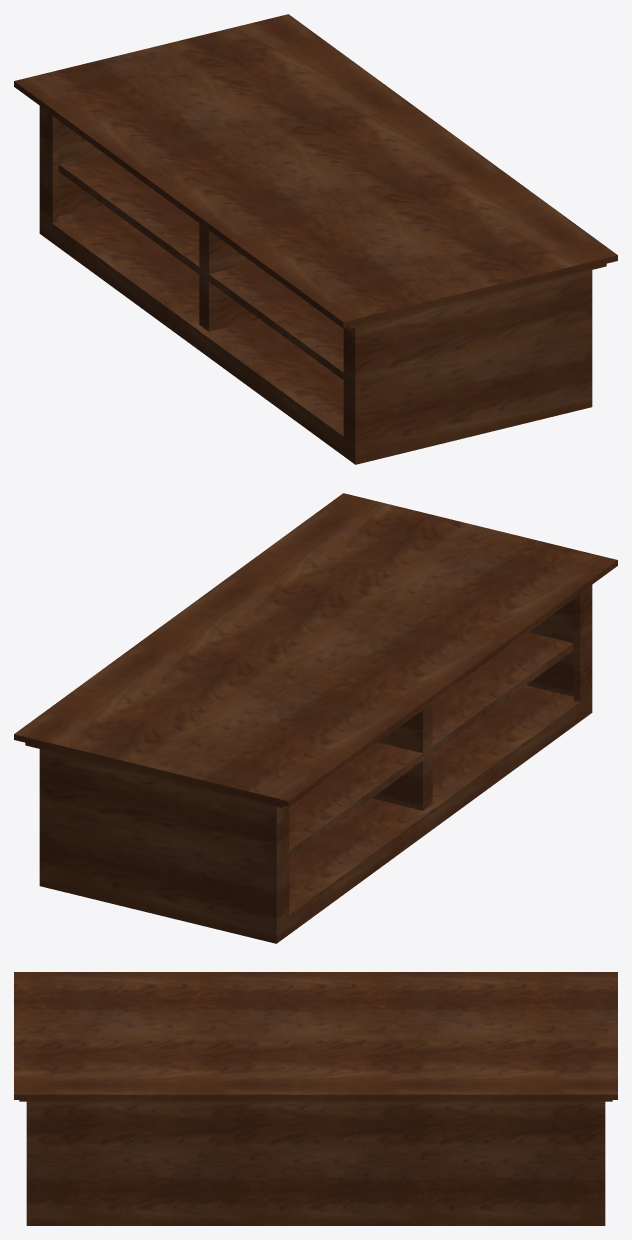
The model's file is body.dae.
3 views of the same model, one above another, from view 1: azimuth 30°, elevation 25°; view 2: azimuth 150°, elevation 25°; view 3: azimuth 270°, elevation 25° (orthographic). The views are drawn at different scales.
Visible parts, largest first — view 1: Component_5 (×4); view 2: Component_5 (×4); view 3: Component_5 (×3).
Part boxes in pixels (left/top/right/bottom): Component_5 (×4): left=14, top=14, right=617, bottom=464; Component_5 (×4): left=14, top=493, right=617, bottom=943; Component_5 (×3): left=14, top=972, right=617, bottom=1225.
Bounding box in the file's own units: 38.83 × 80.71 × 20.59.
2 materials, 1 textured.
